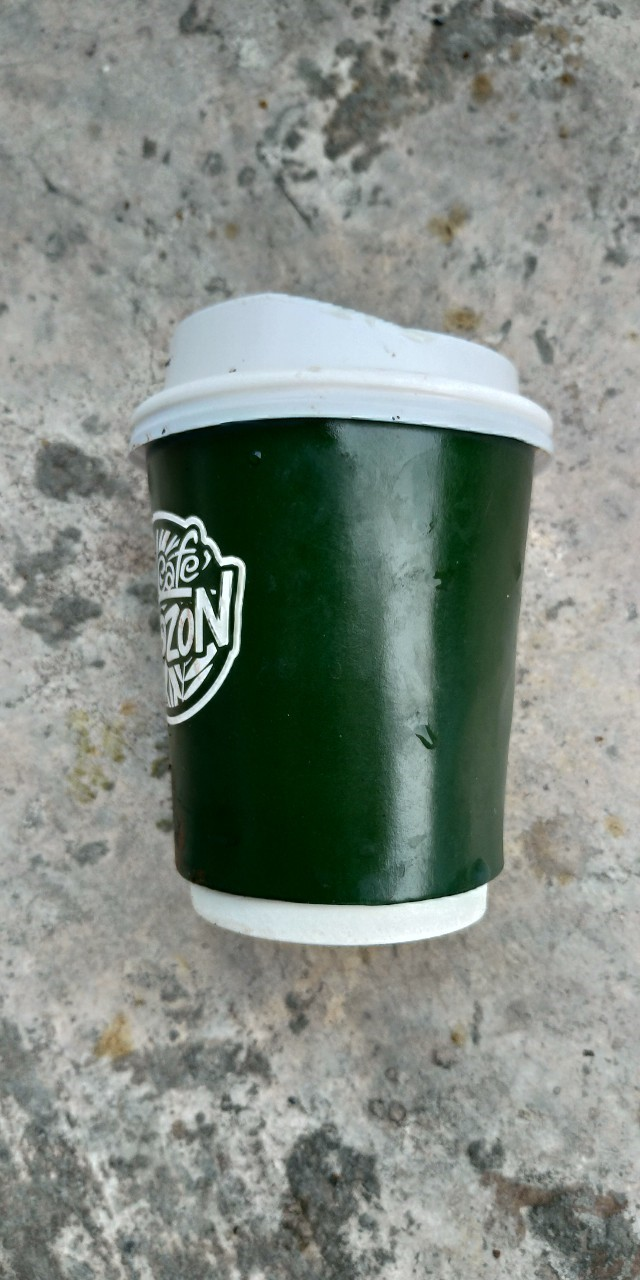PaperCup: (134, 294, 550, 945)
